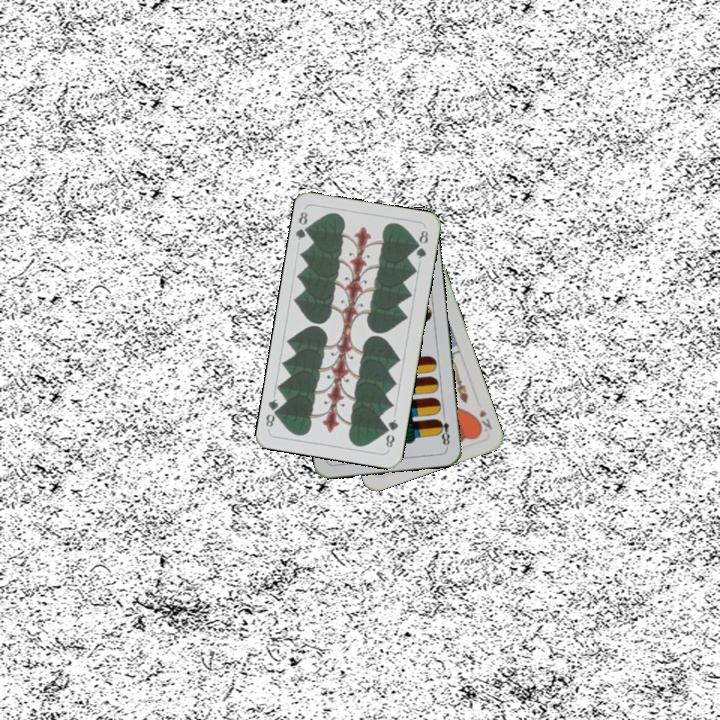E8: (434, 409, 452, 450)
G8: (292, 208, 314, 242), (382, 415, 401, 450)
HK: (471, 405, 495, 435)
